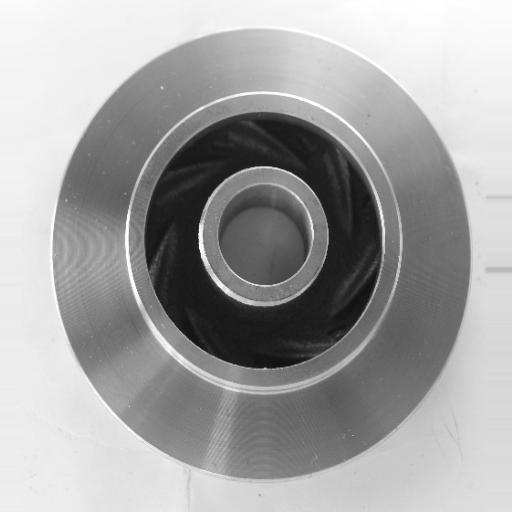polished_casting: (50, 27, 473, 480)
